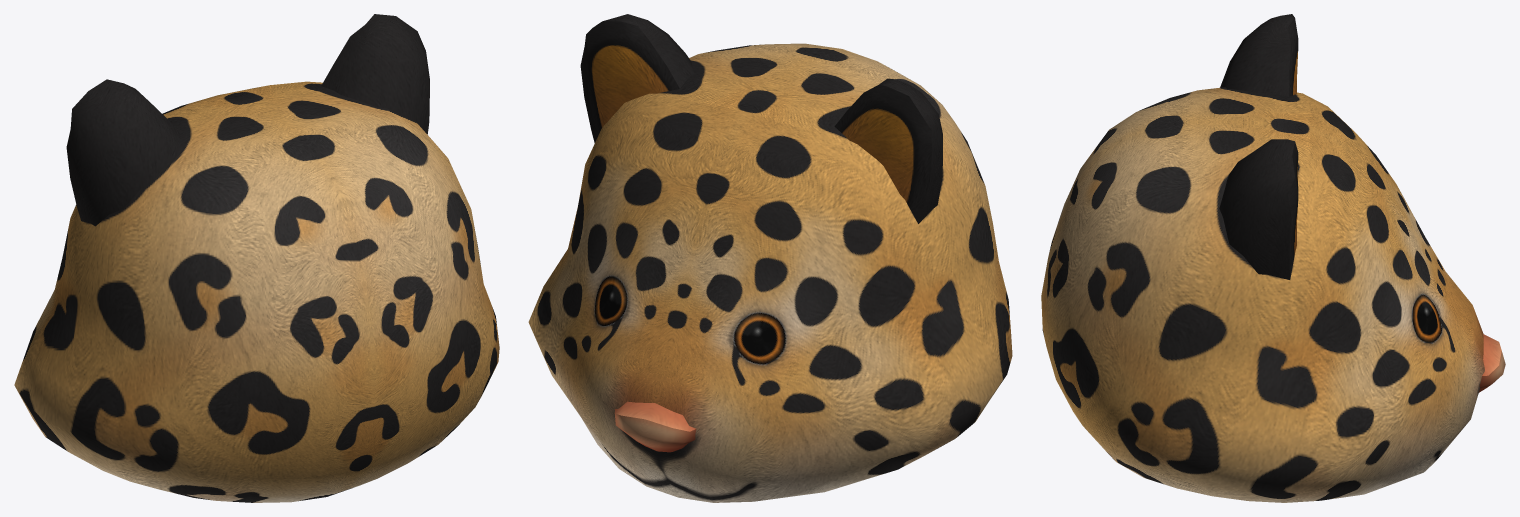
The model's file is CRT0110017.FBX.
The picture shows the model from 3 angles, left to right: view 1: azimuth 30°, elevation 25°; view 2: azimuth 150°, elevation 25°; view 3: azimuth 270°, elevation 25°; orthographic projection. The views are drawn at different scales.
Parts seen in each view (by area): view 1: smCRT0110017; view 2: smCRT0110017; view 3: smCRT0110017.
Part boxes in pixels (x1,y1,x2,y2): smCRT0110017: [14, 14, 499, 502]; smCRT0110017: [528, 14, 1012, 502]; smCRT0110017: [1041, 14, 1505, 502].
Size of the model in its own units: 16.69 by 15.08 by 16.48.
Materials: 1 (1 with a texture image).
